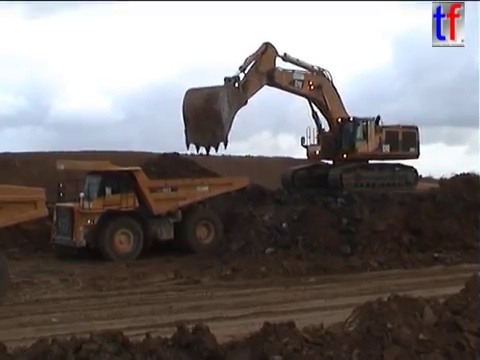excavator: (179, 39, 423, 195)
truck: (49, 158, 250, 262), (1, 180, 50, 305)
